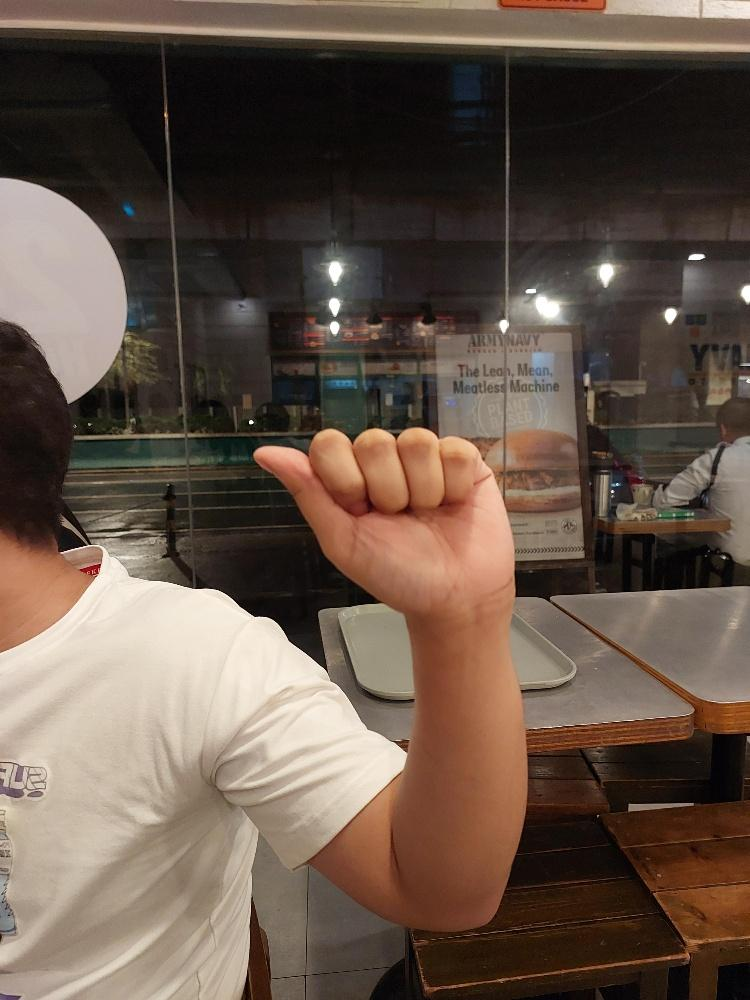a: (250, 423, 517, 613)
